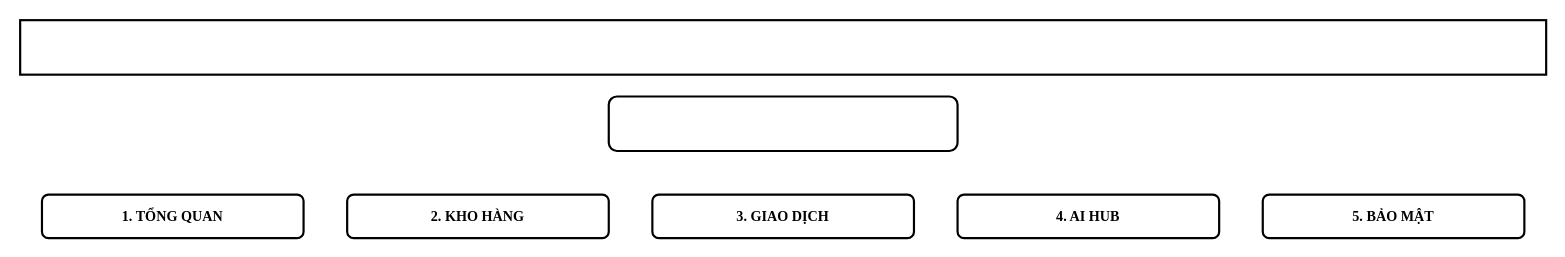
Some shapes in this 1565 by 257 pixel diagram are drawn without their labels. The shapes that lost their labels are listed below. From the top down, each one's box as (x1, y1, x2, y2) in pixels, then its label:
(19, 19, 1547, 75): SƠ ĐỒ ĐIỀU HƯỚNG CẤU TRÚC GIAO DIỆN (FRONTEND SITEMAP)
(607, 95, 958, 152): HỆ THỐNG QUẢN LÝ KHO AI
